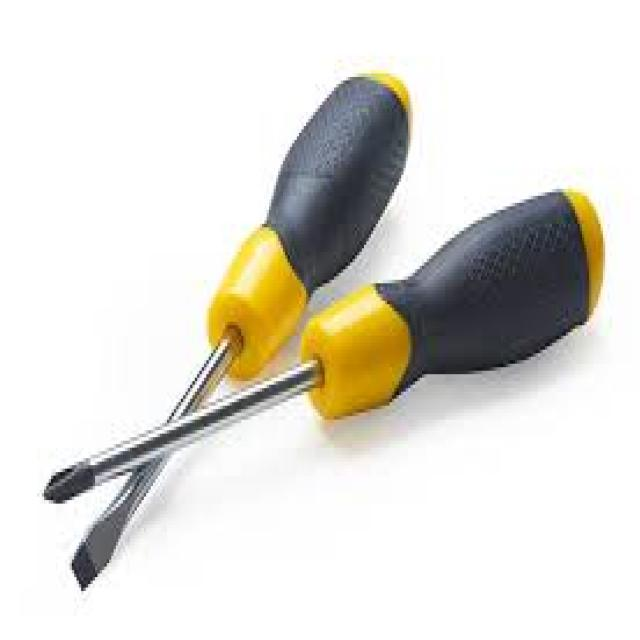screw driver: (16, 57, 586, 624)
